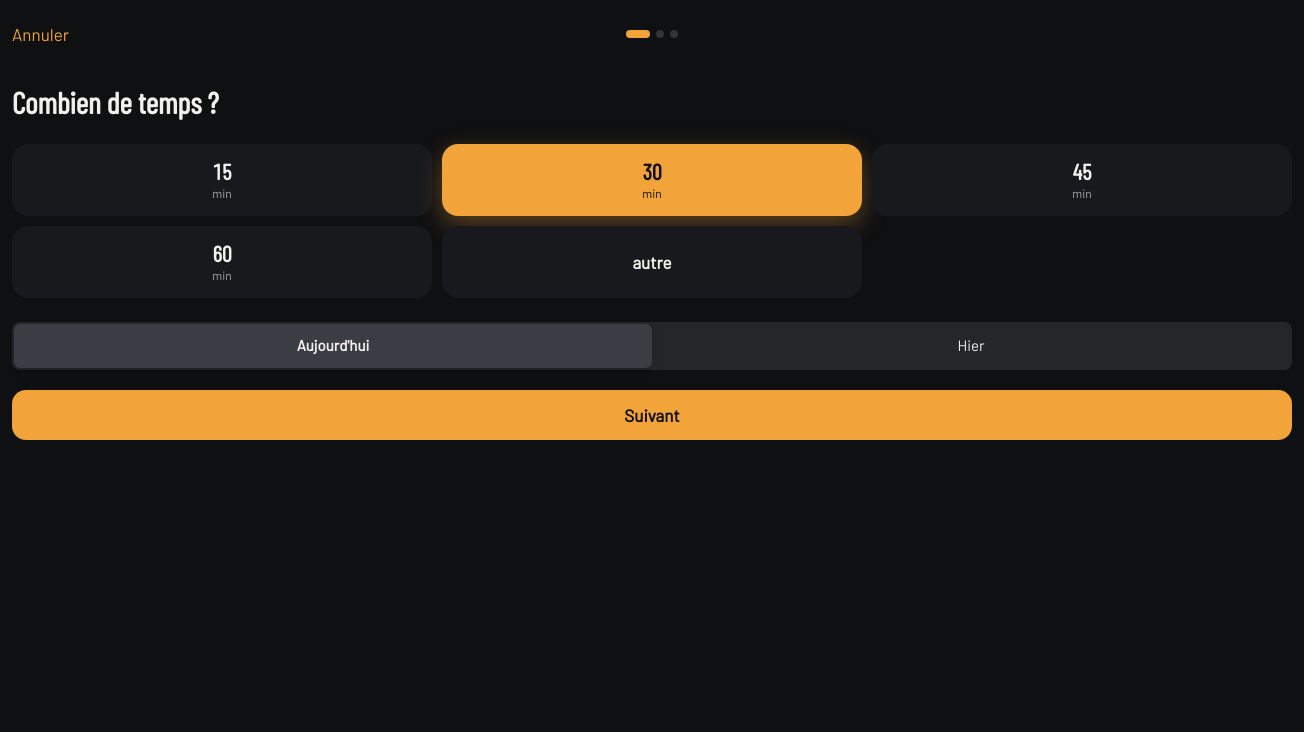
LogGuitarPage › durée « autre » invalide : Suivant désactivé
Expected: the button "Suivant" is enabled, x1=12 y1=390 x2=1292 y2=440
Click the button "autre".
click(652, 262)  # box x1=442 y1=226 x2=862 y2=298
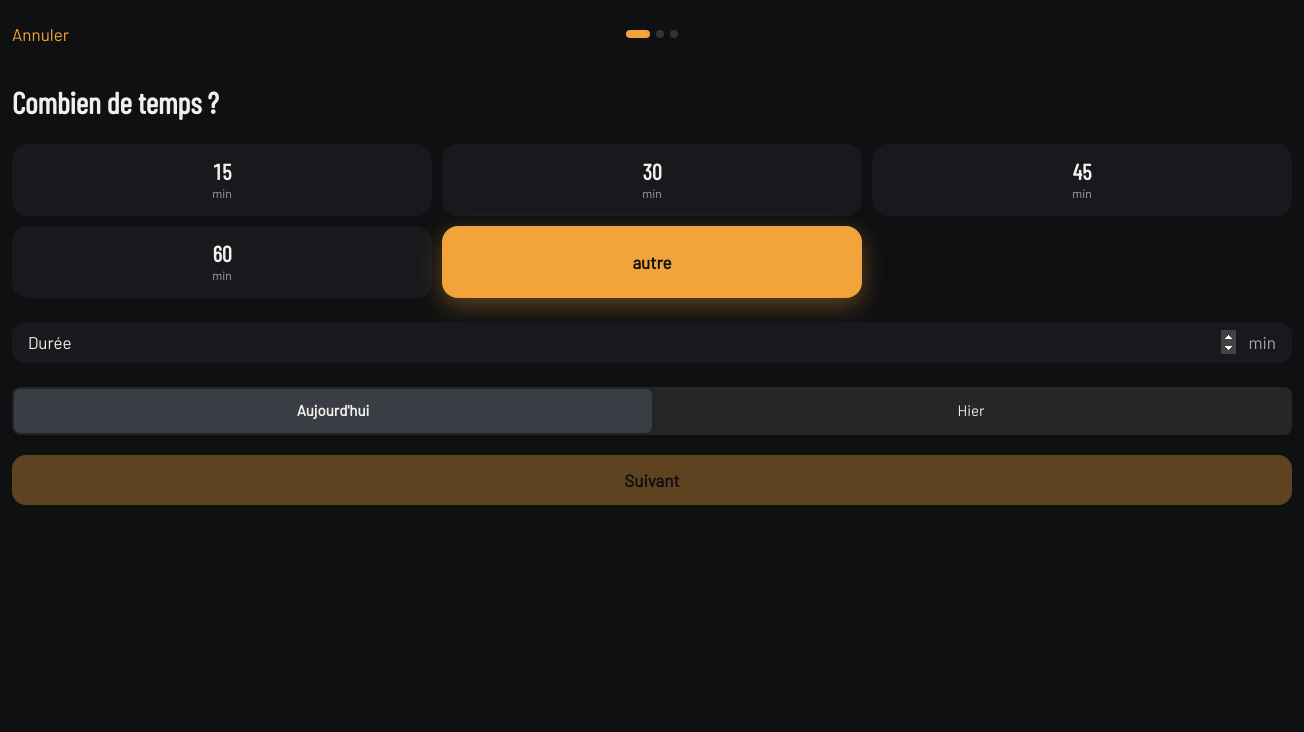
Expected: the button "Suivant" is disabled, x1=12 y1=455 x2=1292 y2=505
Type "0" into the number field named "Durée en minutes".
click(1188, 342); type("0")  # box x1=1140 y1=330 x2=1236 y2=355
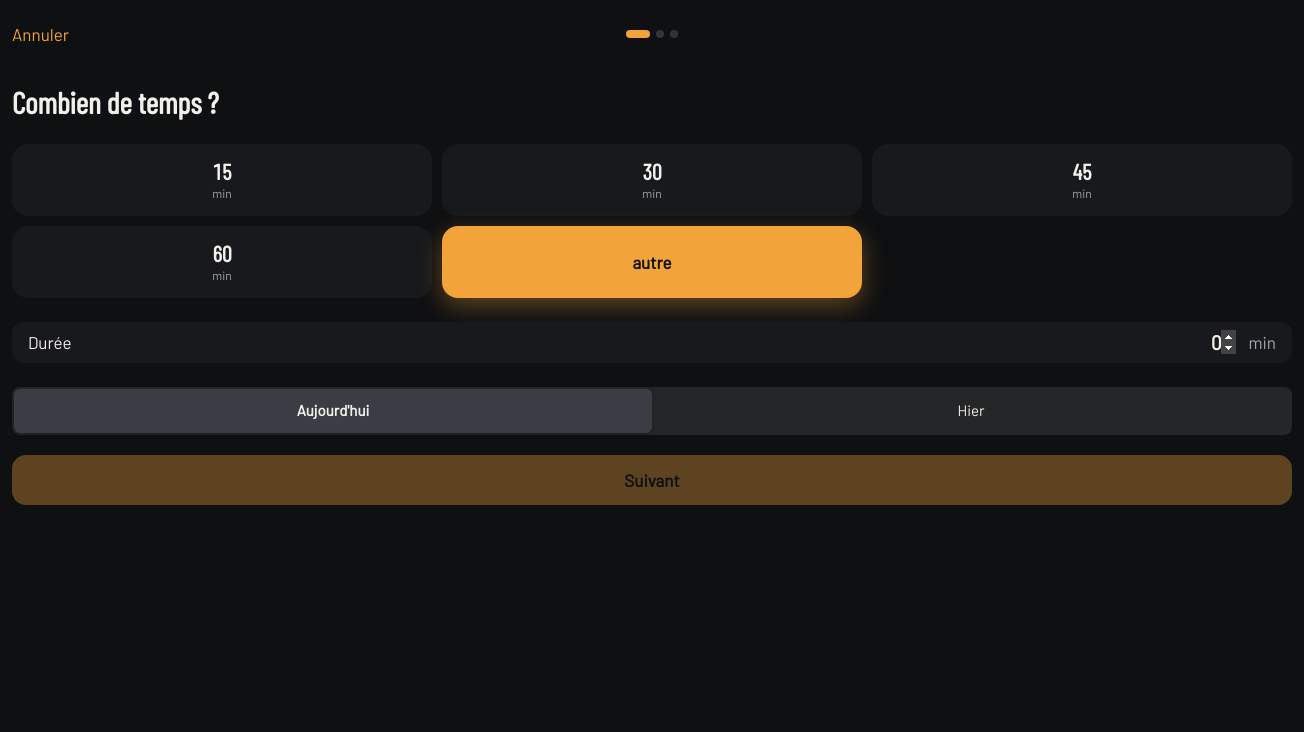
Expected: the button "Suivant" is disabled, x1=12 y1=455 x2=1292 y2=505
Replace the text in the number field named "Durée en minutes" with "601" at (1188, 342), box x1=1140 y1=330 x2=1236 y2=355
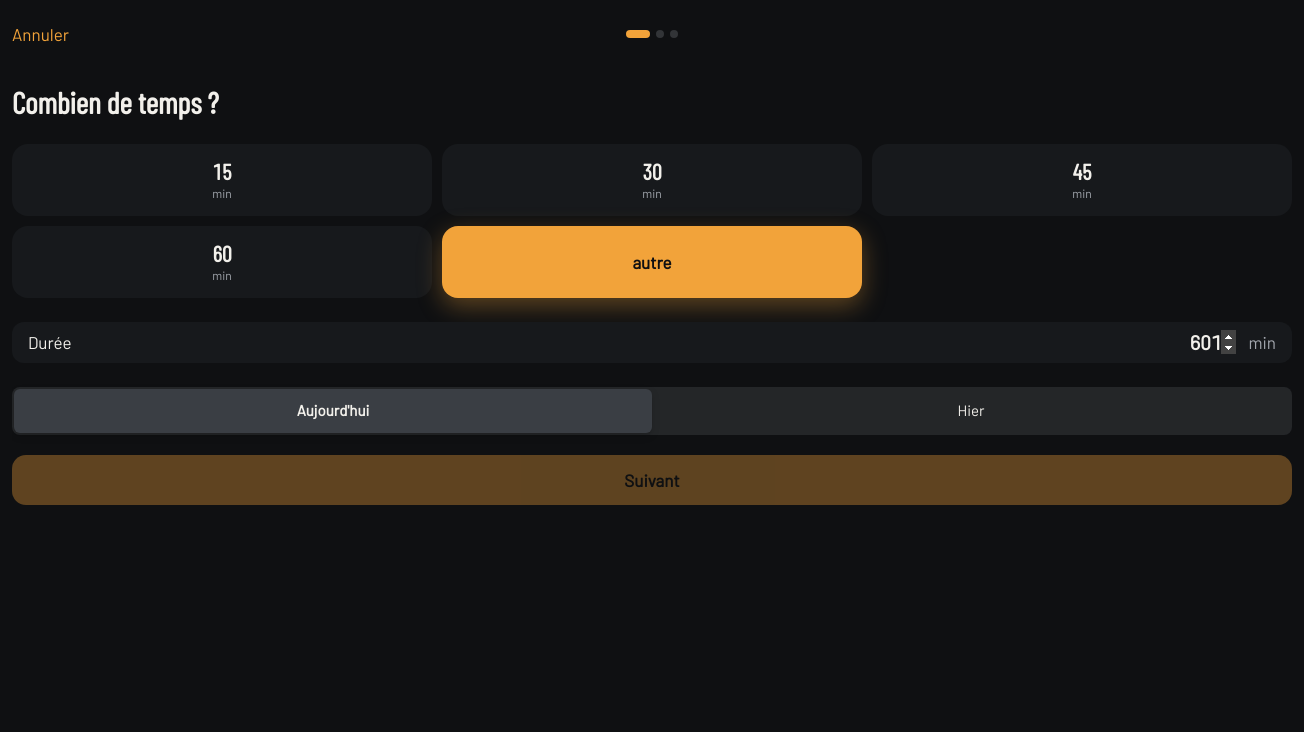
Expected: the button "Suivant" is disabled, x1=12 y1=455 x2=1292 y2=505
Replace the text in the number field named "Durée en minutes" with "90" at (1188, 342), box x1=1140 y1=330 x2=1236 y2=355
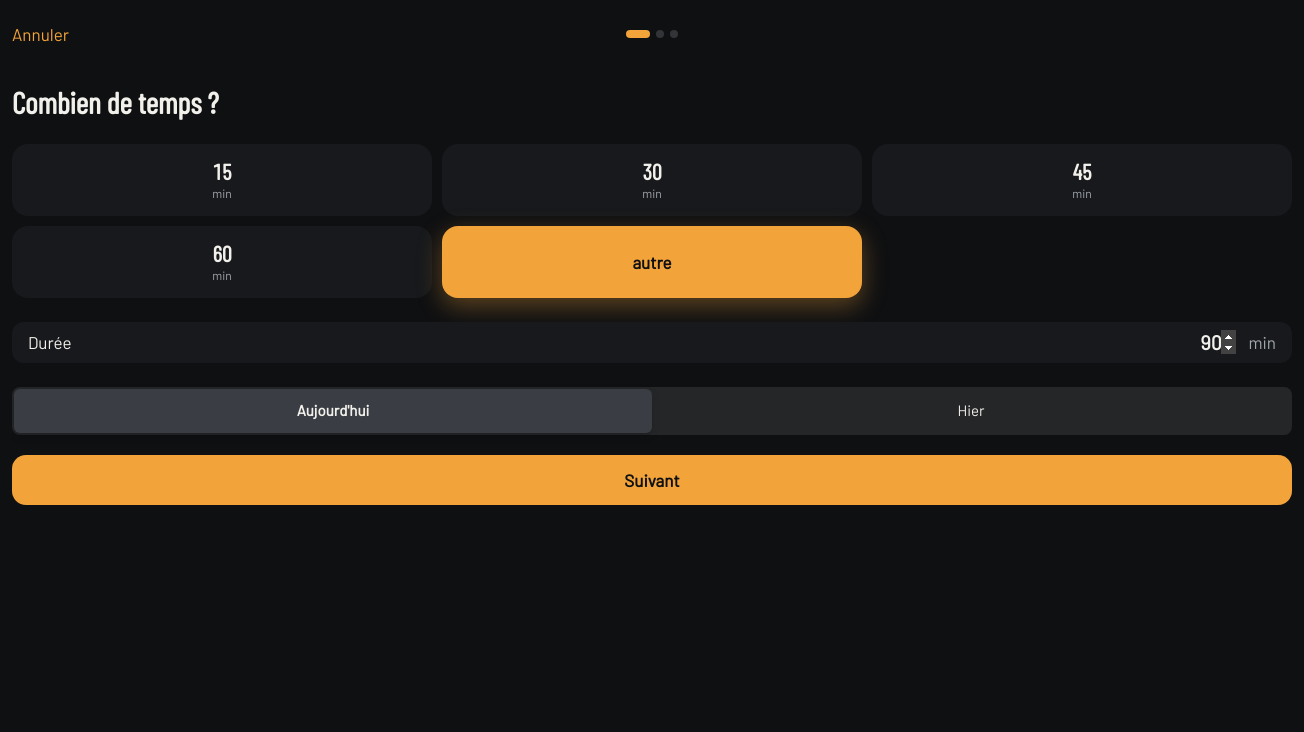
Expected: the button "Suivant" is enabled, x1=12 y1=455 x2=1292 y2=505
